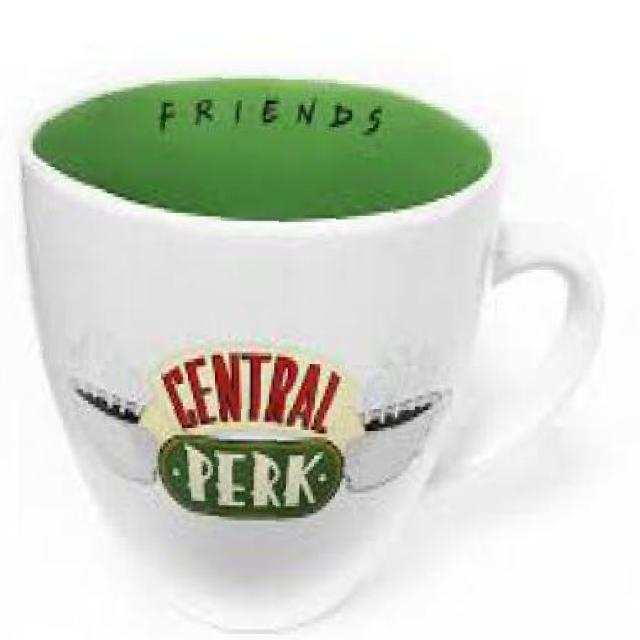cup: (0, 59, 614, 640)
